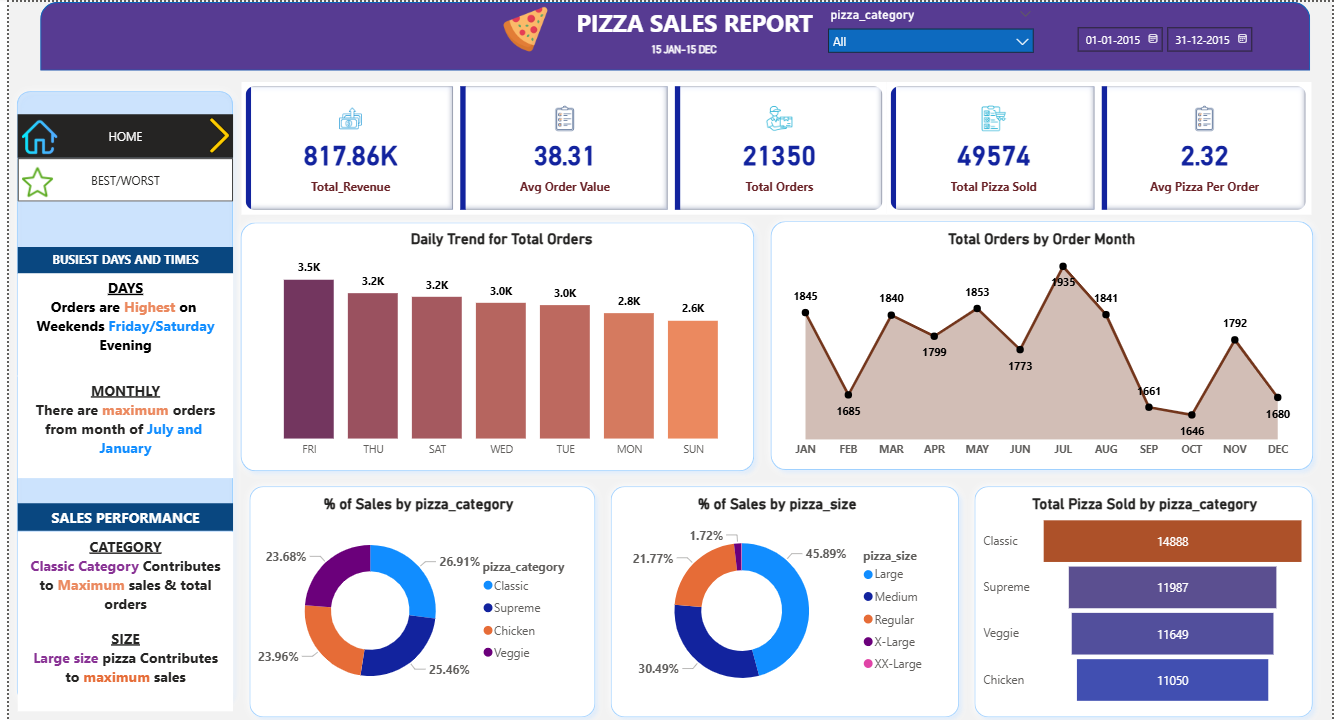

The page's visual inventory and layout, read from the dashboard file:
{"tool":"powerbi","page":{"name":"HOME","canvas":[1500,820],"ordinal":0},"visuals":[{"type":"shape","box":[0,91.4,262.9,711.4],"z":0},{"type":"cardVisual","fields":{"Data":["pizza_sales.Total_Revenue","pizza_sales.Avg Order Value","pizza_sales.Total Orders"]},"box":[262.9,90,731.4,150],"z":1000},{"type":"cardVisual","fields":{"Data":["pizza_sales.Total Pizza Sold","pizza_sales.Avg Pizza Per Order"]},"box":[994.3,90,481.4,150],"z":2000},{"type":"shape","box":[35.4,0,1439.4,77.9],"z":3000},{"type":"textbox","box":[634.3,0,284.3,50],"z":4000},{"type":"textbox","box":[704.3,38.6,121.4,37.1],"z":5000},{"type":"image","box":[537.1,0,97.1,61.4],"z":6000},{"type":"shape","box":[254.3,241.4,600,300],"z":7000},{"type":"columnChart","title":"Daily Trend for Total Orders ","fields":{"Category":["pizza_sales.Order day"],"Y":["pizza_sales.Total Orders"]},"box":[277.1,257.1,561.4,267.1],"z":8000},{"type":"shape","box":[854.3,240,632.9,300],"z":9000},{"type":"areaChart","title":"Total Orders by  Order Month","fields":{"Category":["pizza_sales.Order Month"],"Y":["pizza_sales.Total Orders"]},"box":[878.6,257.1,584.3,267.1],"z":10000},{"type":"shape","box":[262.9,540,410,280],"z":11000},{"type":"shape","box":[672.9,540,412.9,280],"z":12000},{"type":"shape","box":[1085.7,540,401.4,280],"z":13000},{"type":"donutChart","title":"% of Sales by pizza_category","fields":{"Category":["pizza_sales.pizza_category"],"Y":["pizza_sales.Total_Revenue"]},"box":[277.1,558.6,372.9,244.3],"z":14000},{"type":"textbox","box":[10,277.1,244.3,30],"z":15000},{"type":"donutChart","title":"% of Sales by pizza_size","fields":{"Y":["pizza_sales.Total_Revenue"],"Category":["pizza_sales.pizza_size"]},"box":[688.6,558.6,364.3,244.3],"z":16000},{"type":"funnel","fields":{"Category":["pizza_sales.pizza_category"],"Y":["pizza_sales.Total Pizza Sold"]},"box":[1100,558.6,375.7,244.3],"z":17000},{"type":"textbox","box":[10,307.1,244.3,117.1],"z":18000},{"type":"textbox","box":[10,424.3,244.3,115.7],"z":19000},{"type":"textbox","box":[10,568.6,244.3,31.4],"z":20000},{"type":"textbox","box":[10,600,244.3,202.9],"z":21000},{"type":"slicer","fields":{"Values":["pizza_sales.pizza_category"]},"box":[918.6,1.4,252.9,75.7],"z":22000},{"type":"slicer","fields":{"Values":["pizza_sales.order_date"]},"box":[1198.6,18.6,251.4,62.9],"z":23000},{"type":"pageNavigator","box":[9.6,127,244.4,49.9],"z":24000},{"type":"pageNavigator","box":[9.6,176.9,244.4,49.9],"z":25000},{"type":"image","box":[213.9,123.3,49.6,55.3],"z":26000},{"type":"image","box":[9.9,127.5,49.6,51],"z":27000},{"type":"image","box":[9.9,178.5,45.3,51],"z":28000}]}

Visuals, with their boxes in screenshot pixels (x1, y1, x2, y2), scaled from the page's 1500x820 canvas onto the 1334x720 screenshot:
shape: 0, 80, 234, 705
cardVisual - pizza_sales.Total_Revenue x pizza_sales.Avg Order Value: 234, 79, 884, 211
cardVisual - pizza_sales.Total Pizza Sold x pizza_sales.Avg Pizza Per Order: 884, 79, 1312, 211
shape: 31, 0, 1312, 68
textbox: 564, 0, 817, 44
textbox: 626, 34, 734, 66
image: 478, 0, 564, 54
shape: 226, 212, 760, 475
"Daily Trend for Total Orders " columnChart: 246, 226, 746, 460
shape: 760, 211, 1323, 474
"Total Orders by  Order Month" areaChart: 781, 226, 1301, 460
shape: 234, 474, 598, 719
shape: 598, 474, 966, 719
shape: 966, 474, 1323, 719
"% of Sales by pizza_category" donutChart: 246, 490, 578, 705
textbox: 9, 243, 226, 270
"% of Sales by pizza_size" donutChart: 612, 490, 936, 705
funnel - pizza_sales.pizza_category x pizza_sales.Total Pizza Sold: 978, 490, 1312, 705
textbox: 9, 270, 226, 372
textbox: 9, 373, 226, 474
textbox: 9, 499, 226, 527
textbox: 9, 527, 226, 705
slicer - pizza_sales.pizza_category: 817, 1, 1042, 68
slicer - pizza_sales.order_date: 1066, 16, 1290, 72
pageNavigator: 9, 112, 226, 155
pageNavigator: 9, 155, 226, 199
image: 190, 108, 234, 157
image: 9, 112, 53, 157
image: 9, 157, 49, 202
